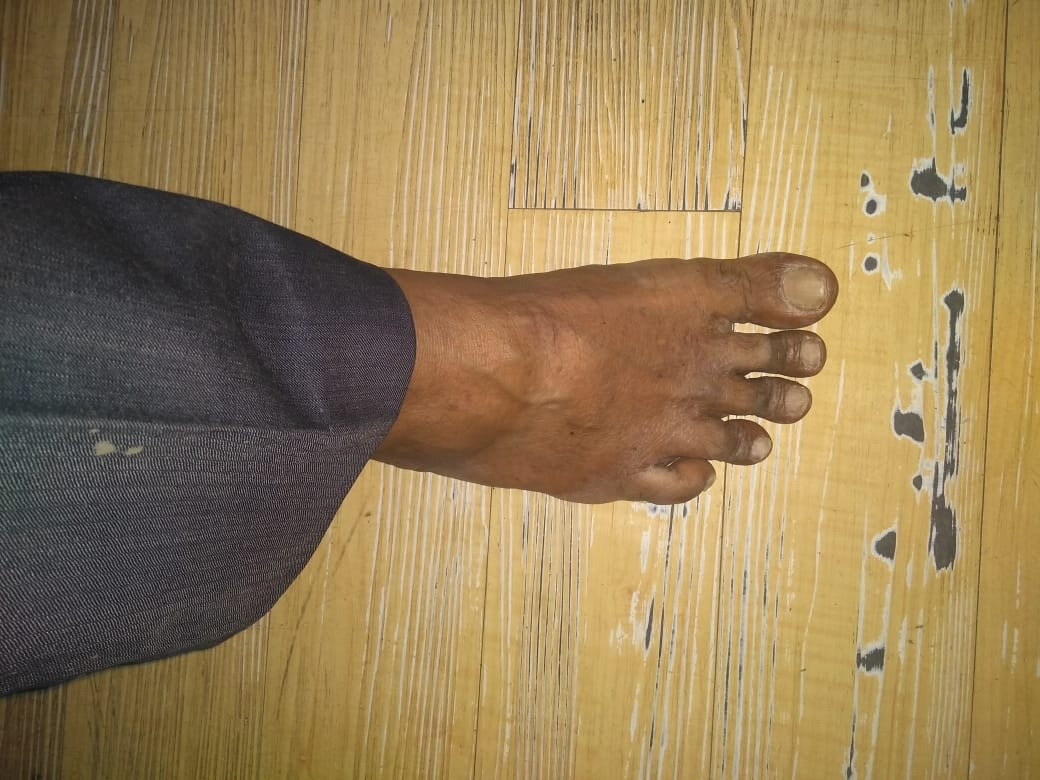feet: (285, 194, 846, 515)
